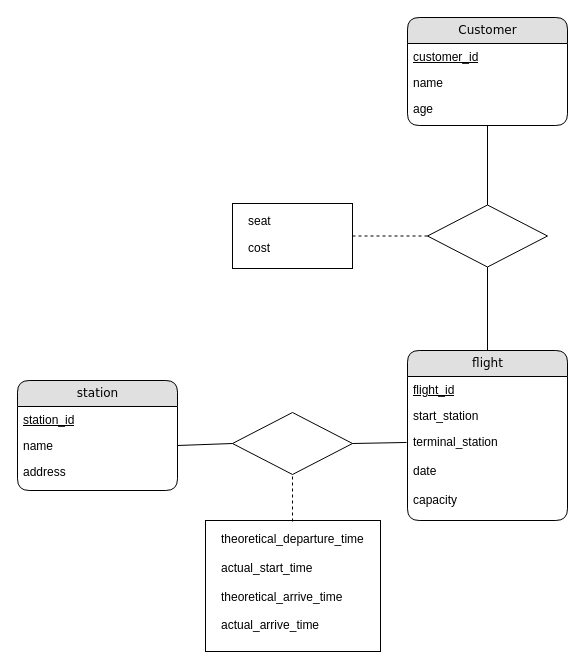
Image size: 585x669. Some labels were removed from this diagram. The shapes that lost their labels are listed below. From the top down, each one's box as (x1, y1, x2, y2) in pixels, then its label:
(426, 204, 548, 267): book_ticket
(232, 412, 352, 474): schedule_filghts
